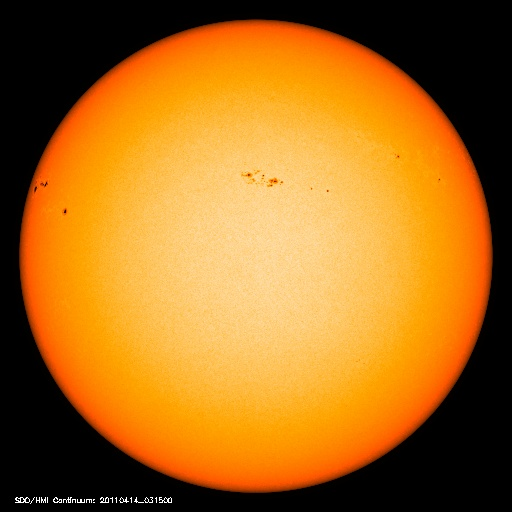sunspot: (231, 160, 342, 202), (381, 139, 448, 190), (26, 173, 72, 219)
